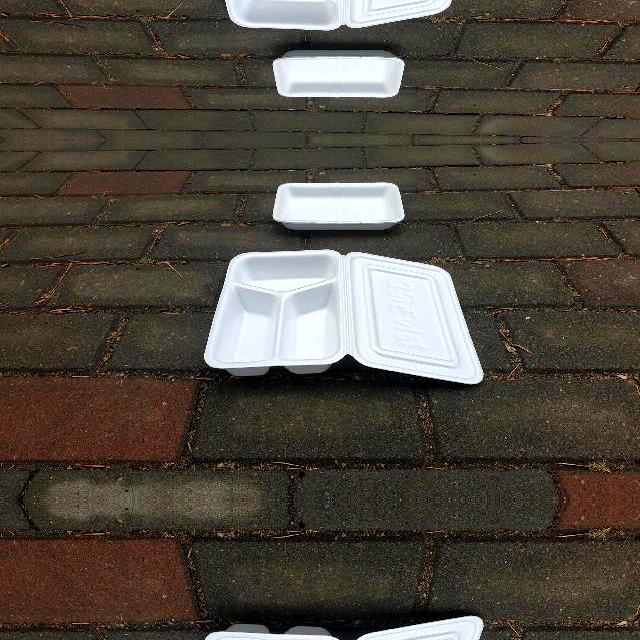Styrofoam: (204, 248, 484, 386), (205, 250, 484, 384), (204, 0, 484, 32), (271, 180, 405, 232), (271, 48, 405, 100), (273, 181, 405, 229), (273, 51, 405, 99)
